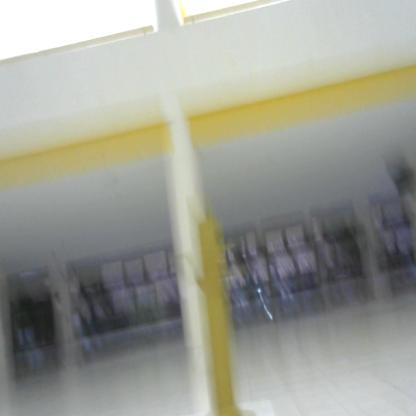pole: (175, 211, 265, 416)
